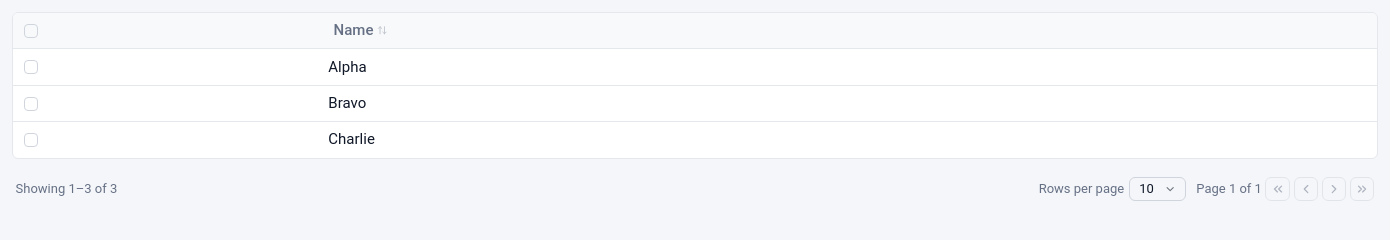
Test case: DataTable with selection › selects every row on the page from the header checkbox
Step 1. Click the checkbox named "Select all orders on this page" → (31, 31), box [24, 24, 38, 38]
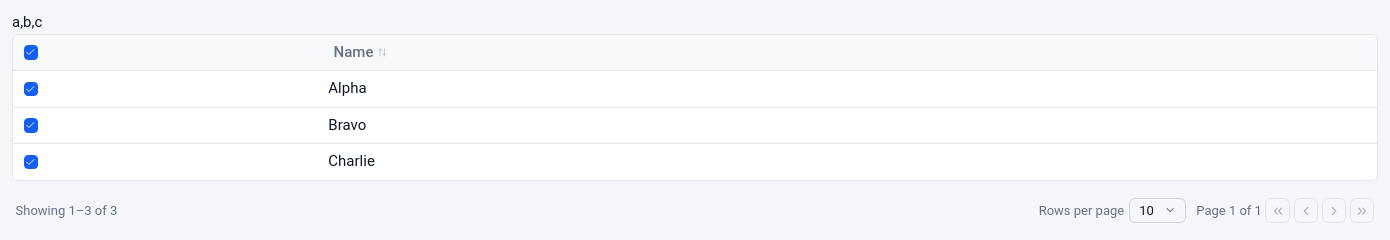
expect the text with test id "selection" reads "a,b,c": met, box [12, 13, 42, 31]
